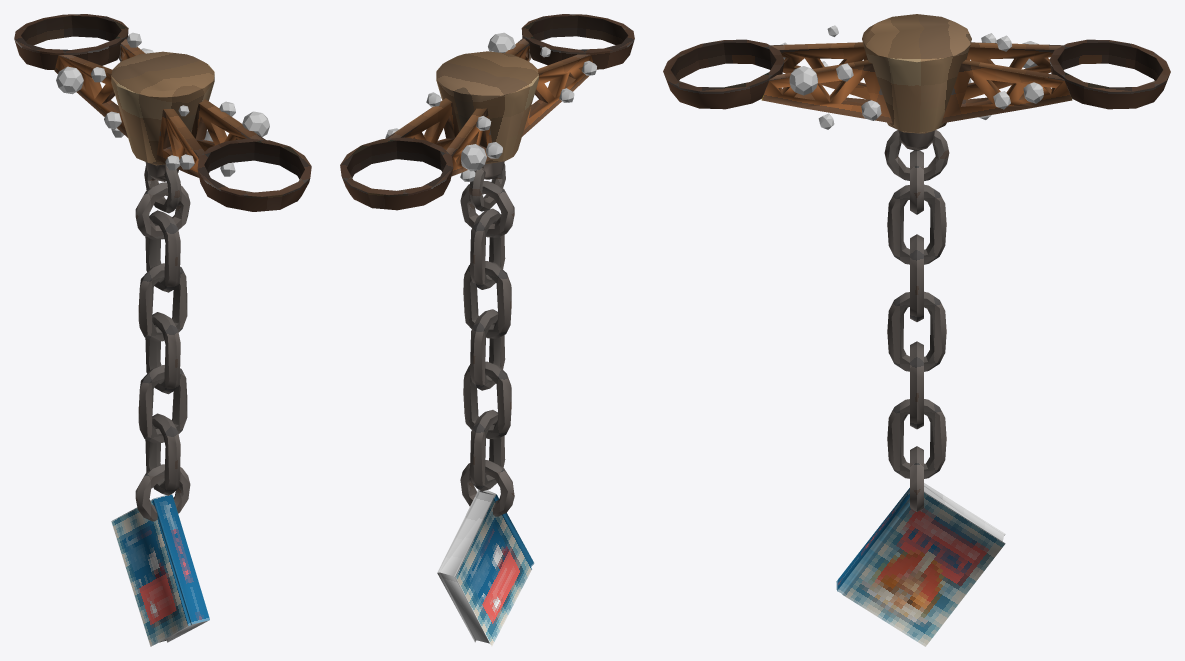
File: grandchef_keychain.obj
The picture shows the model from 3 angles, left to right: view 1: azimuth 30°, elevation 25°; view 2: azimuth 150°, elevation 25°; view 3: azimuth 270°, elevation 25°; orthographic projection. The views are drawn at different scales.
Parts seen in each view (by area): view 1: keychain; view 2: keychain; view 3: keychain.
Part boxes in pixels (x1,y1,x2,y2): keychain: [14, 14, 311, 646]; keychain: [340, 14, 634, 646]; keychain: [663, 14, 1170, 646].
Size of the model in its own units: 0.0817 by 0.4461 by 0.3352.
